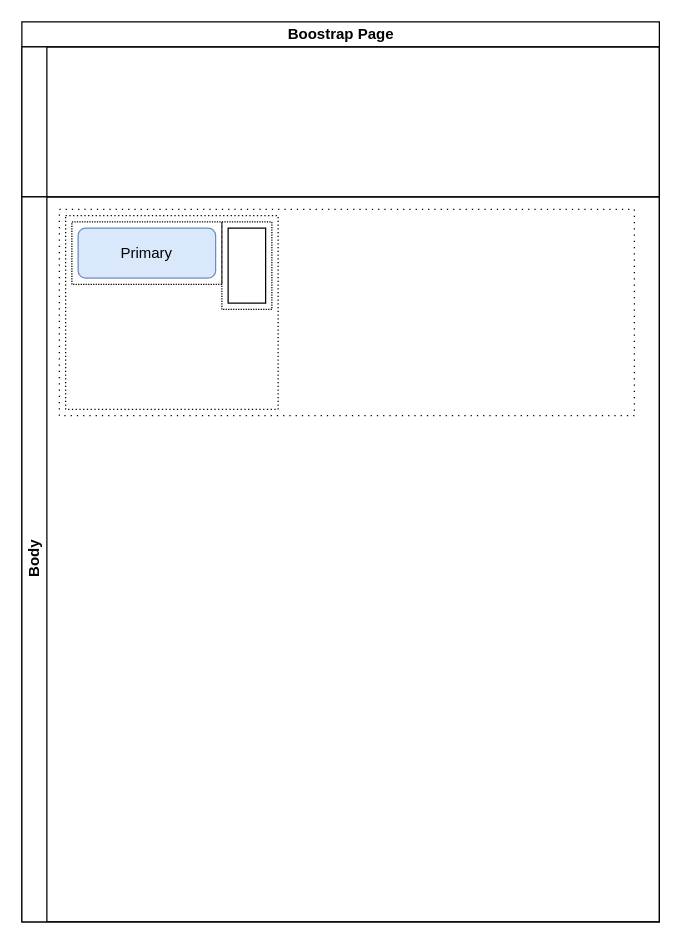
This 681x944 diagram has some shape labels left out. The shapes that lost their labels are listed below. From the top down, each one's box as (x1, y1, x2, y2) in pixels, then its label:
(21, 46, 659, 197): Head
(227, 227, 266, 303): Text
